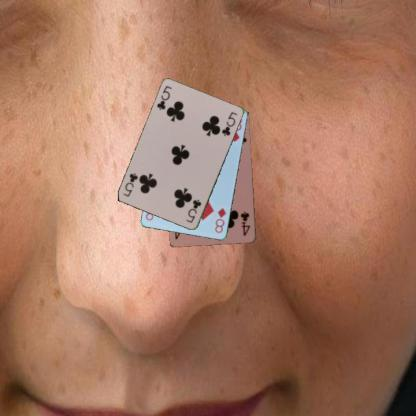4c: (237, 209, 252, 238)
5c: (154, 83, 173, 112), (184, 197, 203, 224)
8d: (212, 205, 228, 235)
